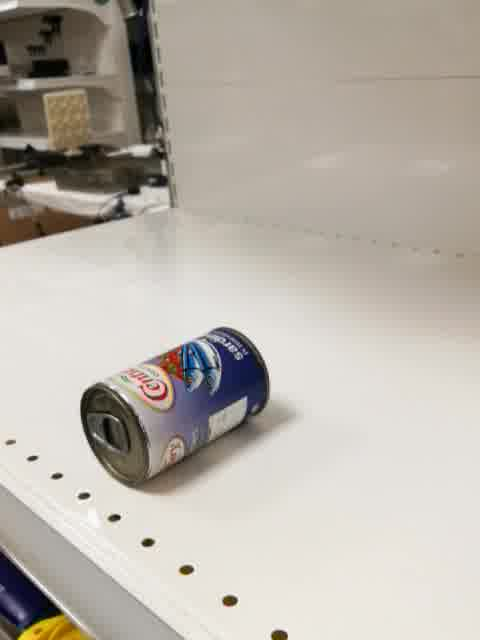sardine: (80, 327, 269, 486)
